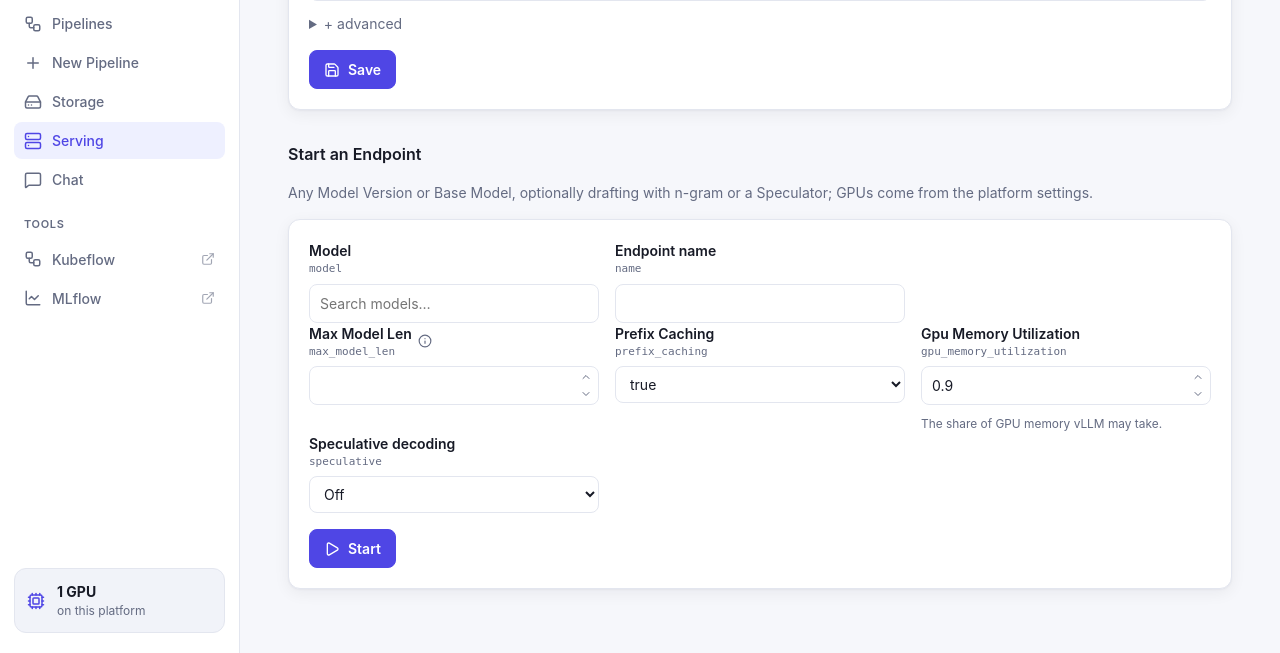
Test: serving options start with vLLM's defaults, each with an ⓘ and numbers with steppers
The width and height of the screenshot is (1280, 653).
(page scrolled)
Expected: the field labelled "Gpu Memory Utilization gpu_memory_utilization" holds "0.9", [921, 366, 1211, 405]
Step 1. Click the button named "Increase Gpu Memory Utilization" → (1198, 377), box [1187, 368, 1209, 386]
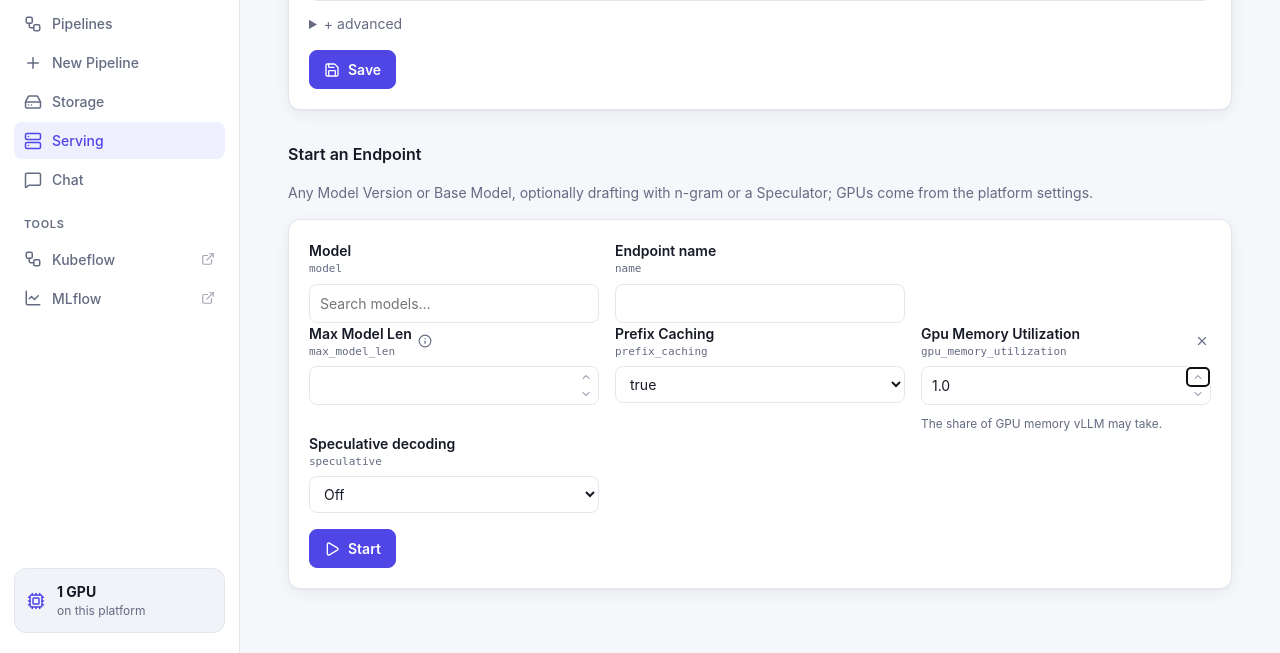
Step 2. Click the button named "Increase Gpu Memory Utilization" → (1198, 377), box [1187, 368, 1209, 386]
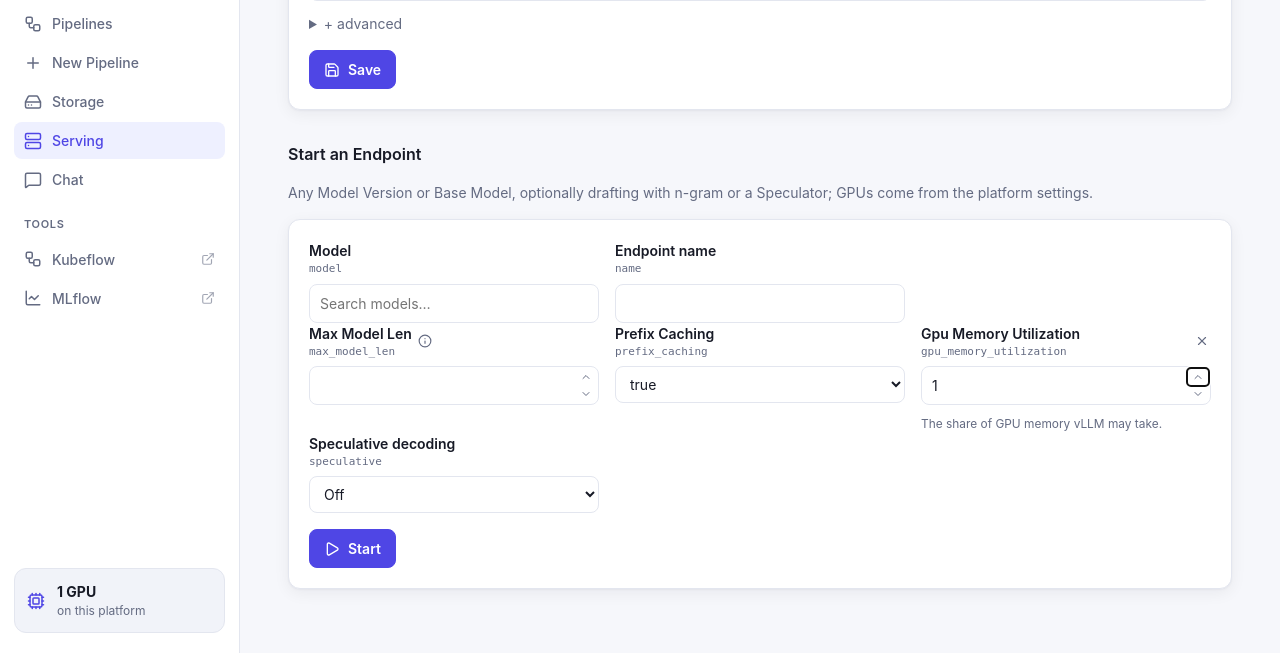
Now the field labelled "Gpu Memory Utilization gpu_memory_utilization" holds "1", box [921, 366, 1211, 405]
